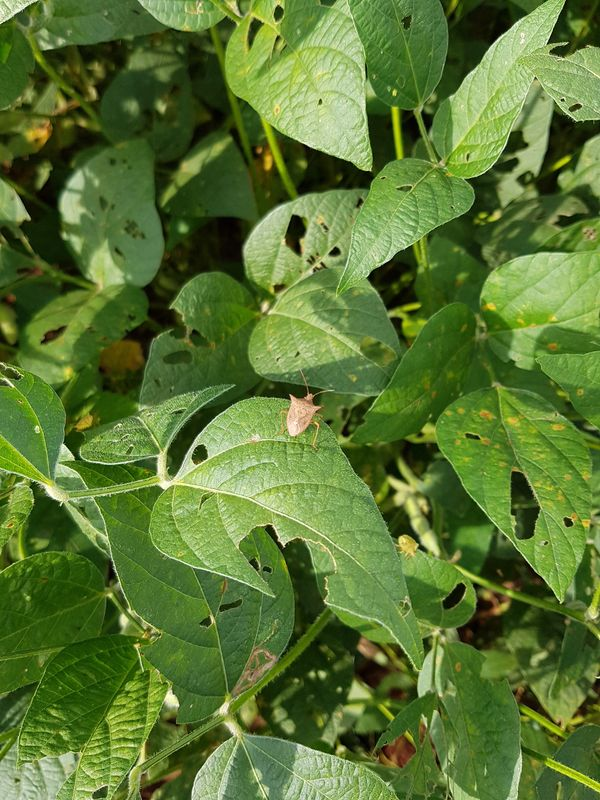Euschistus_heros_adulto: (268, 370, 340, 453)
Euschistus_heros_ninfa: (380, 524, 433, 566)
